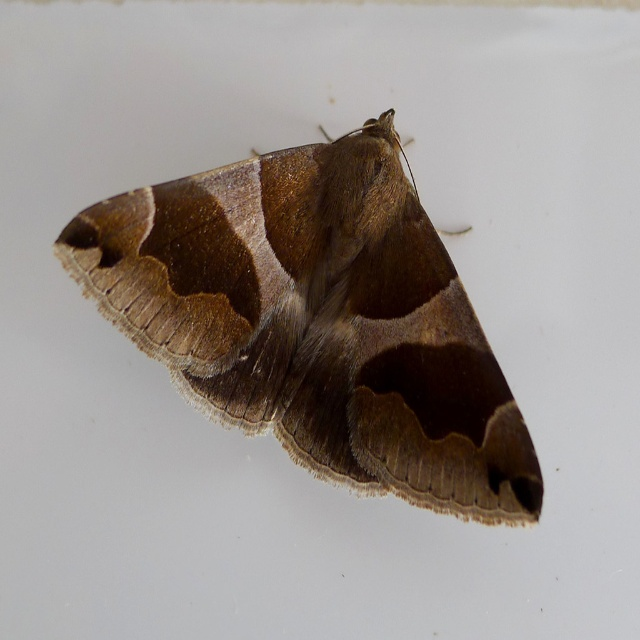Moths and butterflies: (49, 108, 546, 528)
